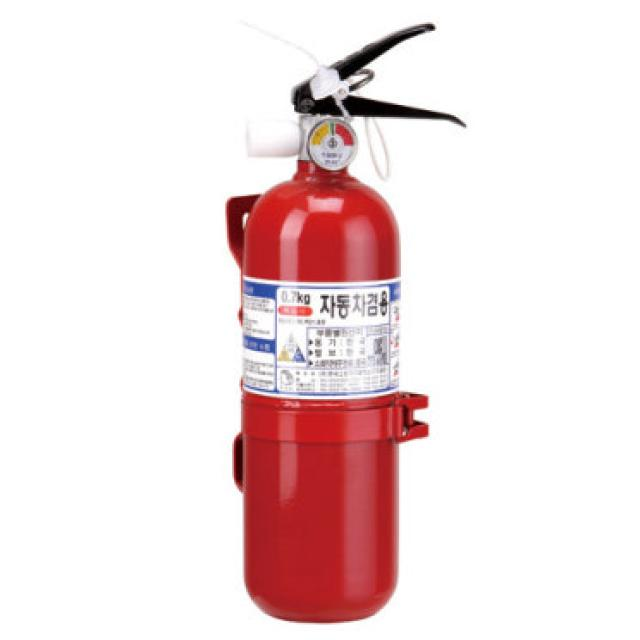pressure gauge: (310, 120, 354, 167)
